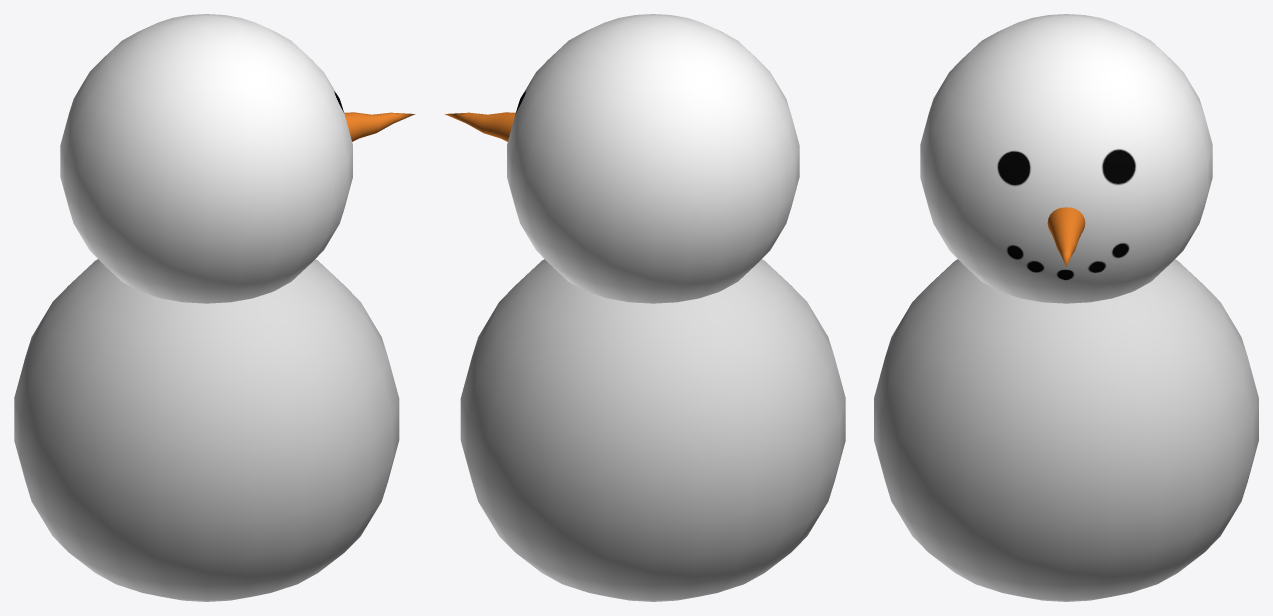
The model's file is snowman.fbx.
The picture shows the model from 3 angles, left to right: view 1: azimuth 30°, elevation 25°; view 2: azimuth 150°, elevation 25°; view 3: azimuth 270°, elevation 25°; orthographic projection.
Visible parts, largest first — view 1: Sphere, Sphere.001, Cylinder; view 2: Sphere, Sphere.001, Cylinder; view 3: Sphere, Sphere.001, Cylinder.
Part boxes in pixels (x1,y1,x2,y2): Sphere: (14, 259, 399, 601); Sphere.001: (60, 14, 352, 303); Cylinder: (344, 112, 415, 141); Sphere: (460, 259, 845, 601); Sphere.001: (507, 14, 799, 303); Cylinder: (444, 112, 515, 141); Sphere: (874, 259, 1258, 601); Sphere.001: (920, 14, 1212, 303); Cylinder: (1047, 207, 1085, 266).
Bounding box in the file's own units: 2.8 × 3.94 × 2.48.
